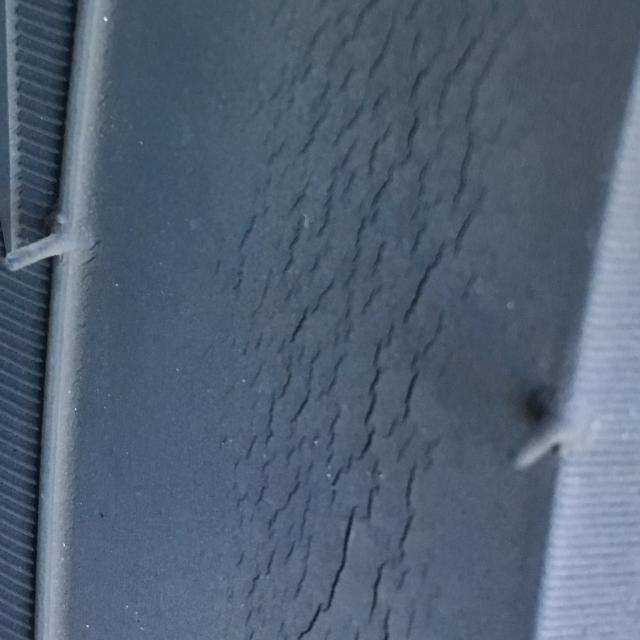Cracks: (194, 0, 550, 640)
Non-defective: (0, 0, 145, 640)
